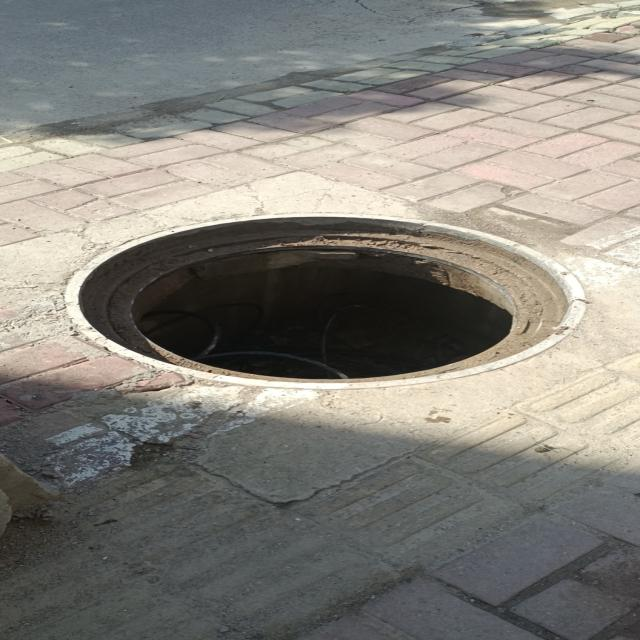Uncovered: (64, 213, 582, 389)
